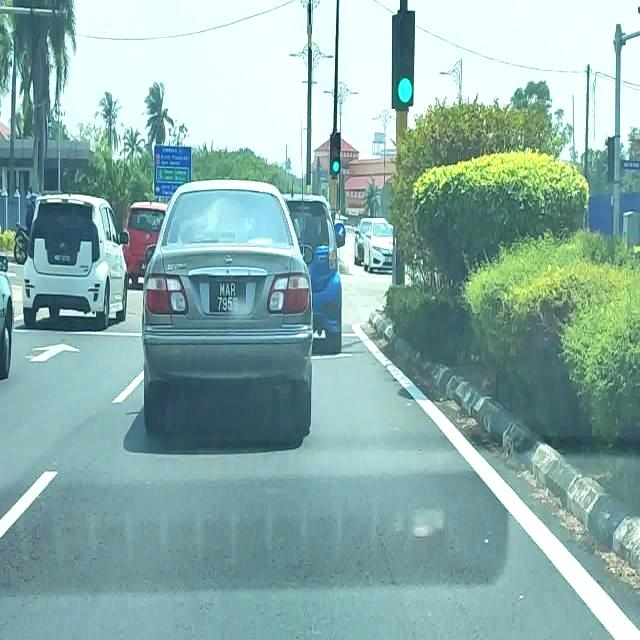Green: (393, 10, 416, 107), (330, 134, 340, 176)
